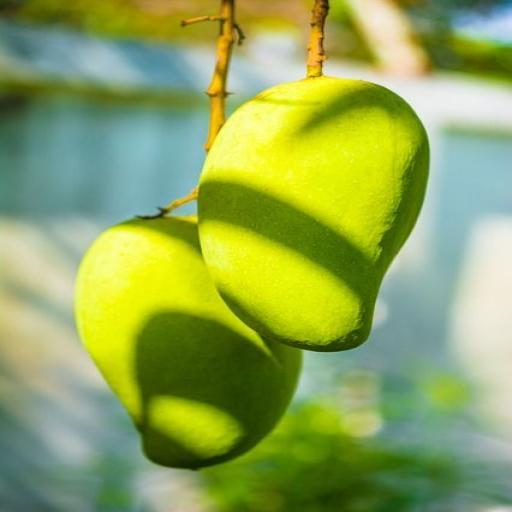mango: (199, 77, 429, 351), (76, 218, 300, 468)
